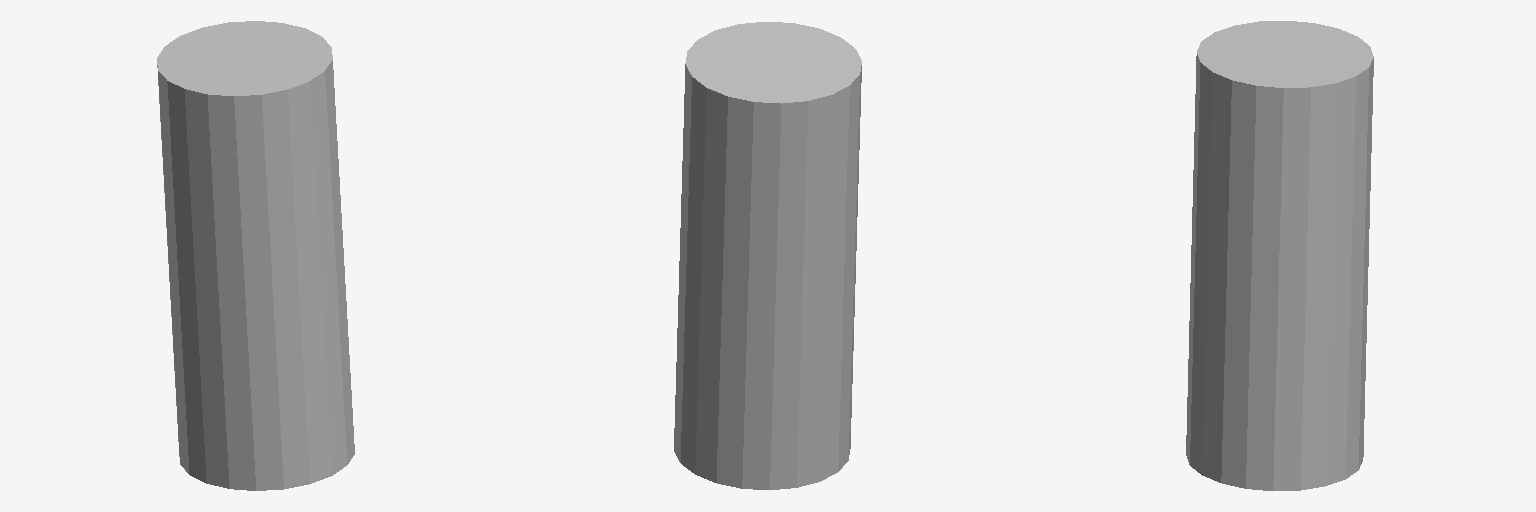
The model's file is 3midph_skin.obj.
3 views of the same model, side by side, from view 1: azimuth 30°, elevation 25°; view 2: azimuth 150°, elevation 25°; view 3: azimuth 270°, elevation 25° (orthographic).
Bounding box in the file's own units: 0.0122 × 0.0277 × 0.0117.